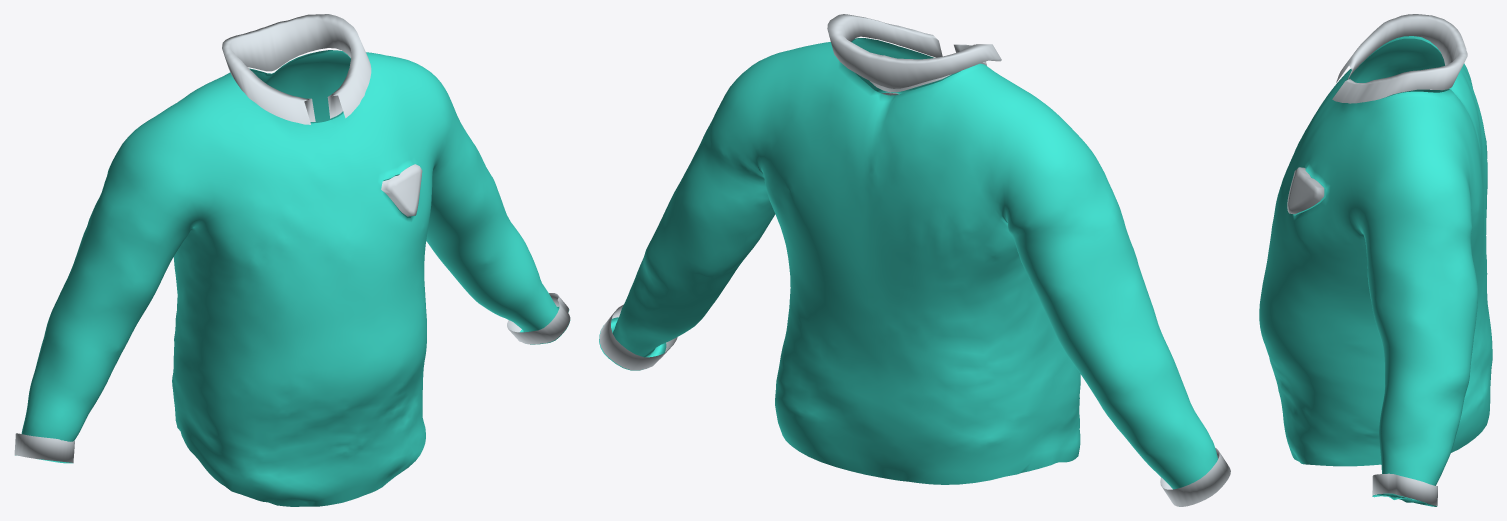
File: Male-XXX-Large-shirtWithAbbi.glb
3 renders of one model, left to right at view 1: azimuth 30°, elevation 25°; view 2: azimuth 150°, elevation 25°; view 3: azimuth 270°, elevation 25°, orthographic. The views are drawn at different scales.
Parts seen in each view (by area): view 1: Group1.034; view 2: Group1.034; view 3: Group1.034.
Part boxes in pixels (x1,y1,x2,y2): Group1.034: (14, 14, 570, 506); Group1.034: (599, 14, 1230, 506); Group1.034: (1259, 14, 1492, 506).
Size of the model in its own units: 1.91 by 1.37 by 0.7134.
